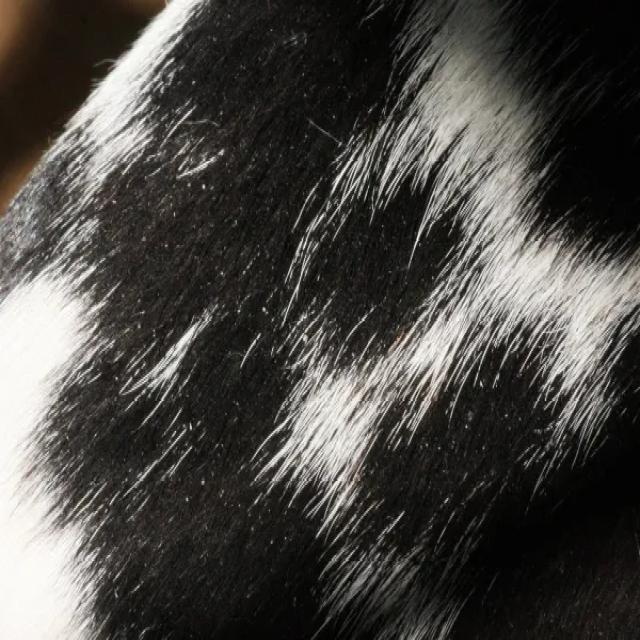hotspot: (76, 0, 448, 348), (367, 322, 563, 600), (84, 440, 351, 640), (486, 0, 639, 264), (294, 172, 474, 363), (36, 342, 167, 526), (183, 312, 299, 452)
